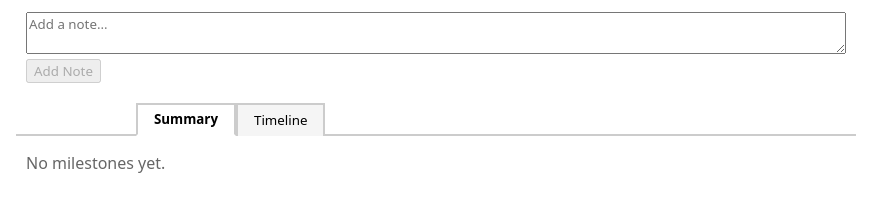
JobHistorySection › shows an operation error under the note form when the post fails
Step 1. Type "Hello" into the text box with placeholder "Add a note…" → (436, 33), box 26,12 -> 846,54
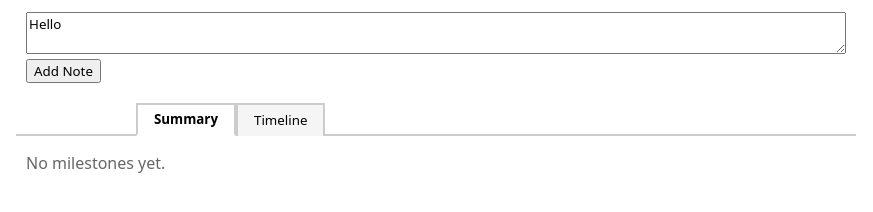
Step 2. Click the button "Add Note" → (63, 71), box 26,59 -> 101,83
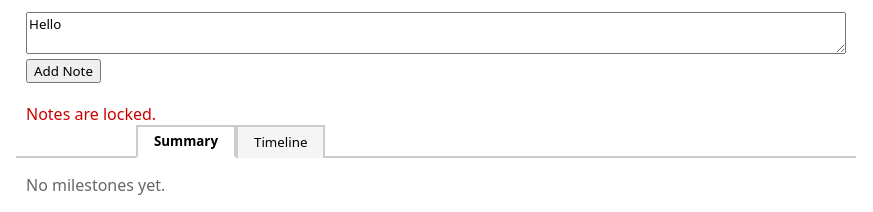
expect the message reads "Notes are locked.": met, box 26,103 -> 156,125
